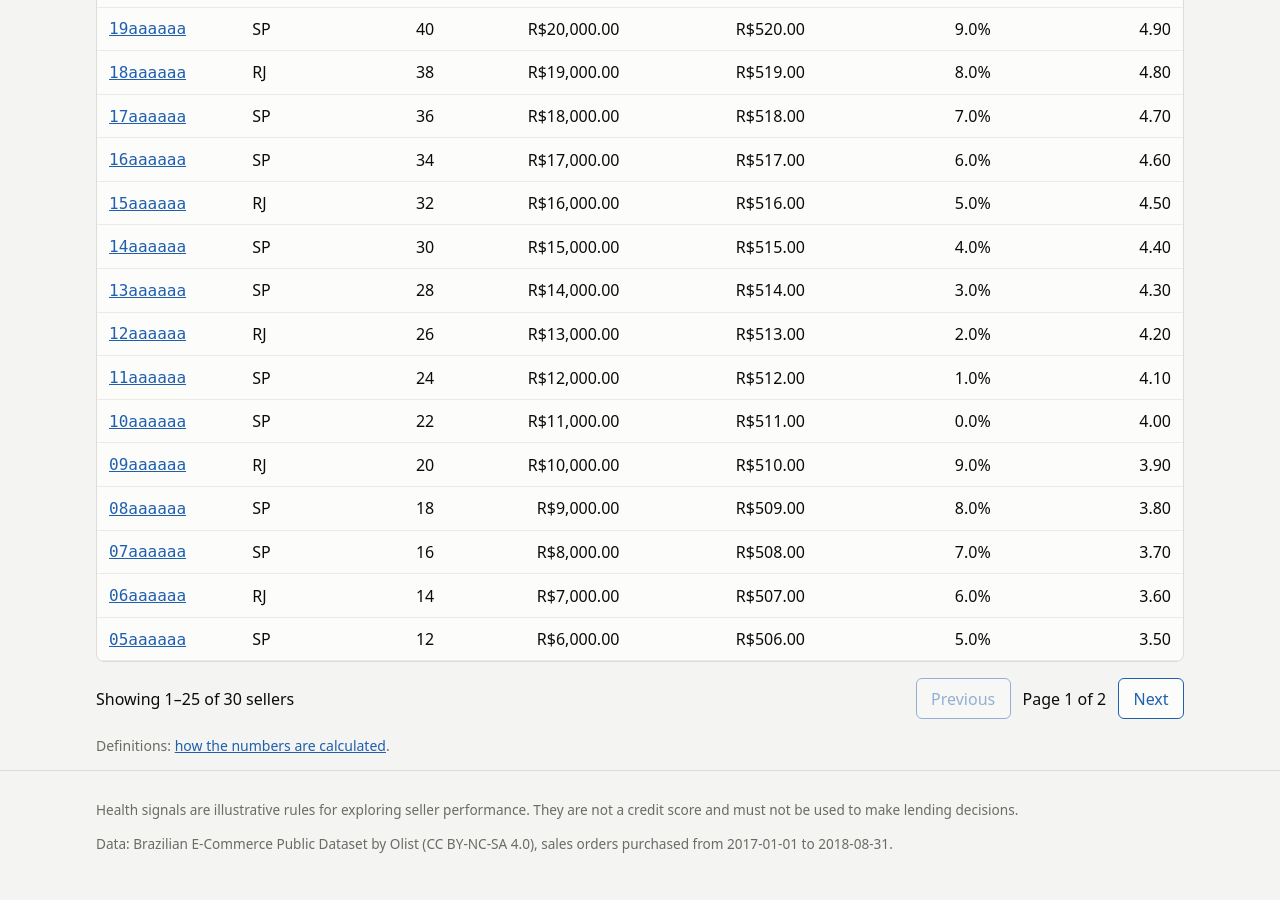
Test case: Seller list › pages forward and back, and disables buttons at the ends
Later steps or results of the test are not shown.
(page scrolled)
Expected: the button "Previous" is disabled, [916,678,1011,719]
Click the button "Next".
click(1151, 699)  # box [1118,678,1184,719]
(page scrolled)
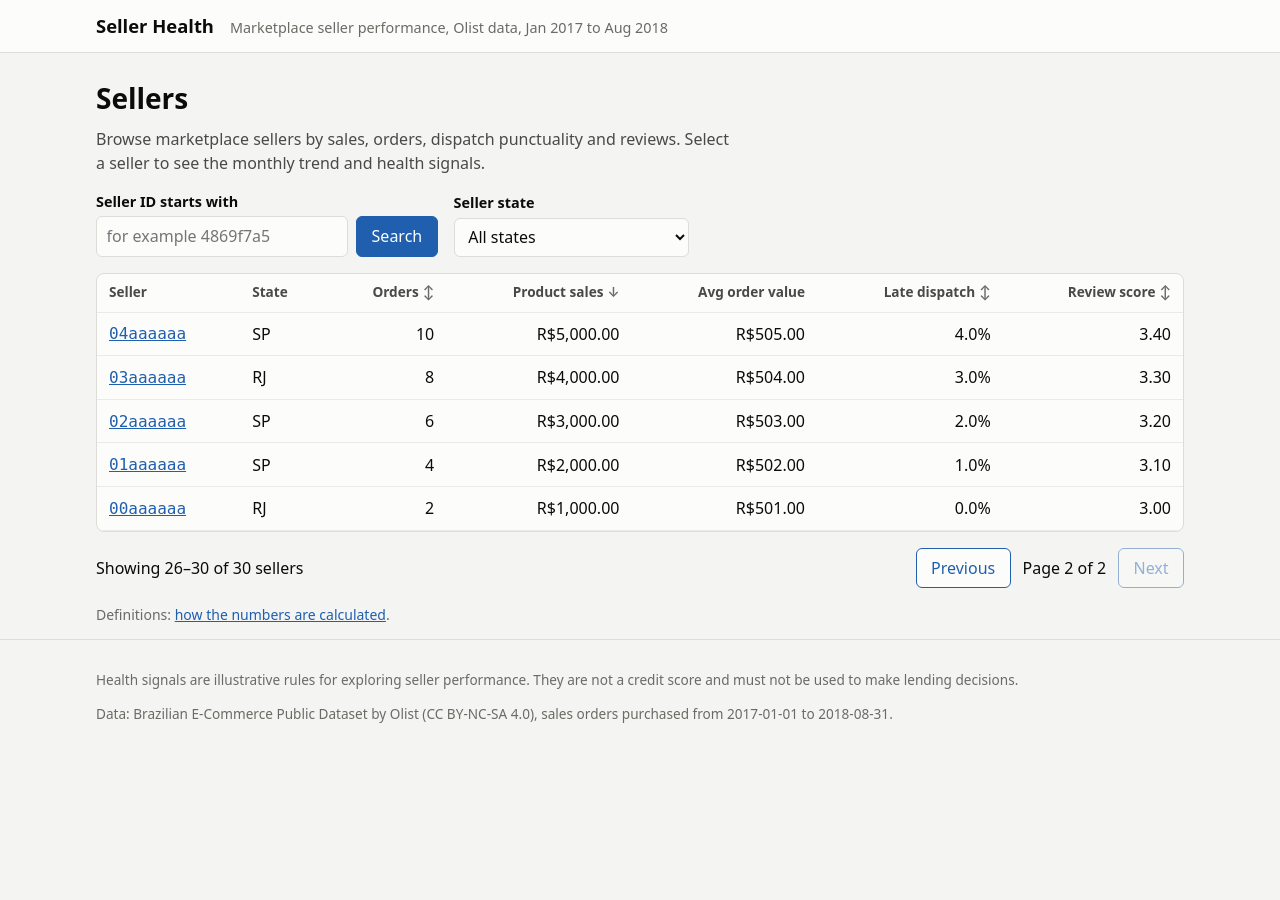
Expected: the text "Showing 26–30 of 30 sellers" is shown, [96,556,304,580]
Expected: the button "Next" is disabled, [1118,548,1184,588]
